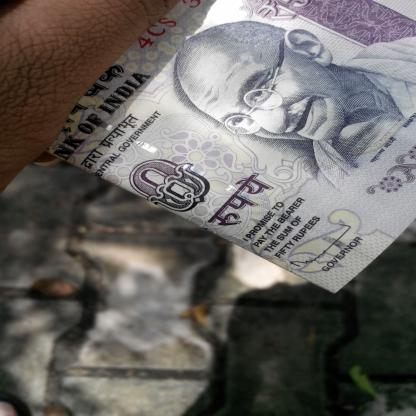Old50Front: (0, 0, 416, 294)
